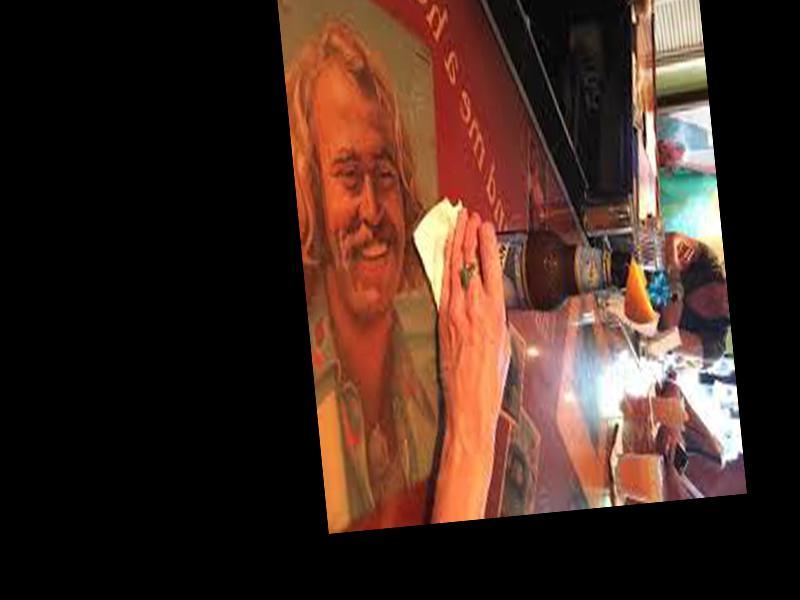Beer: (442, 216, 639, 315)
